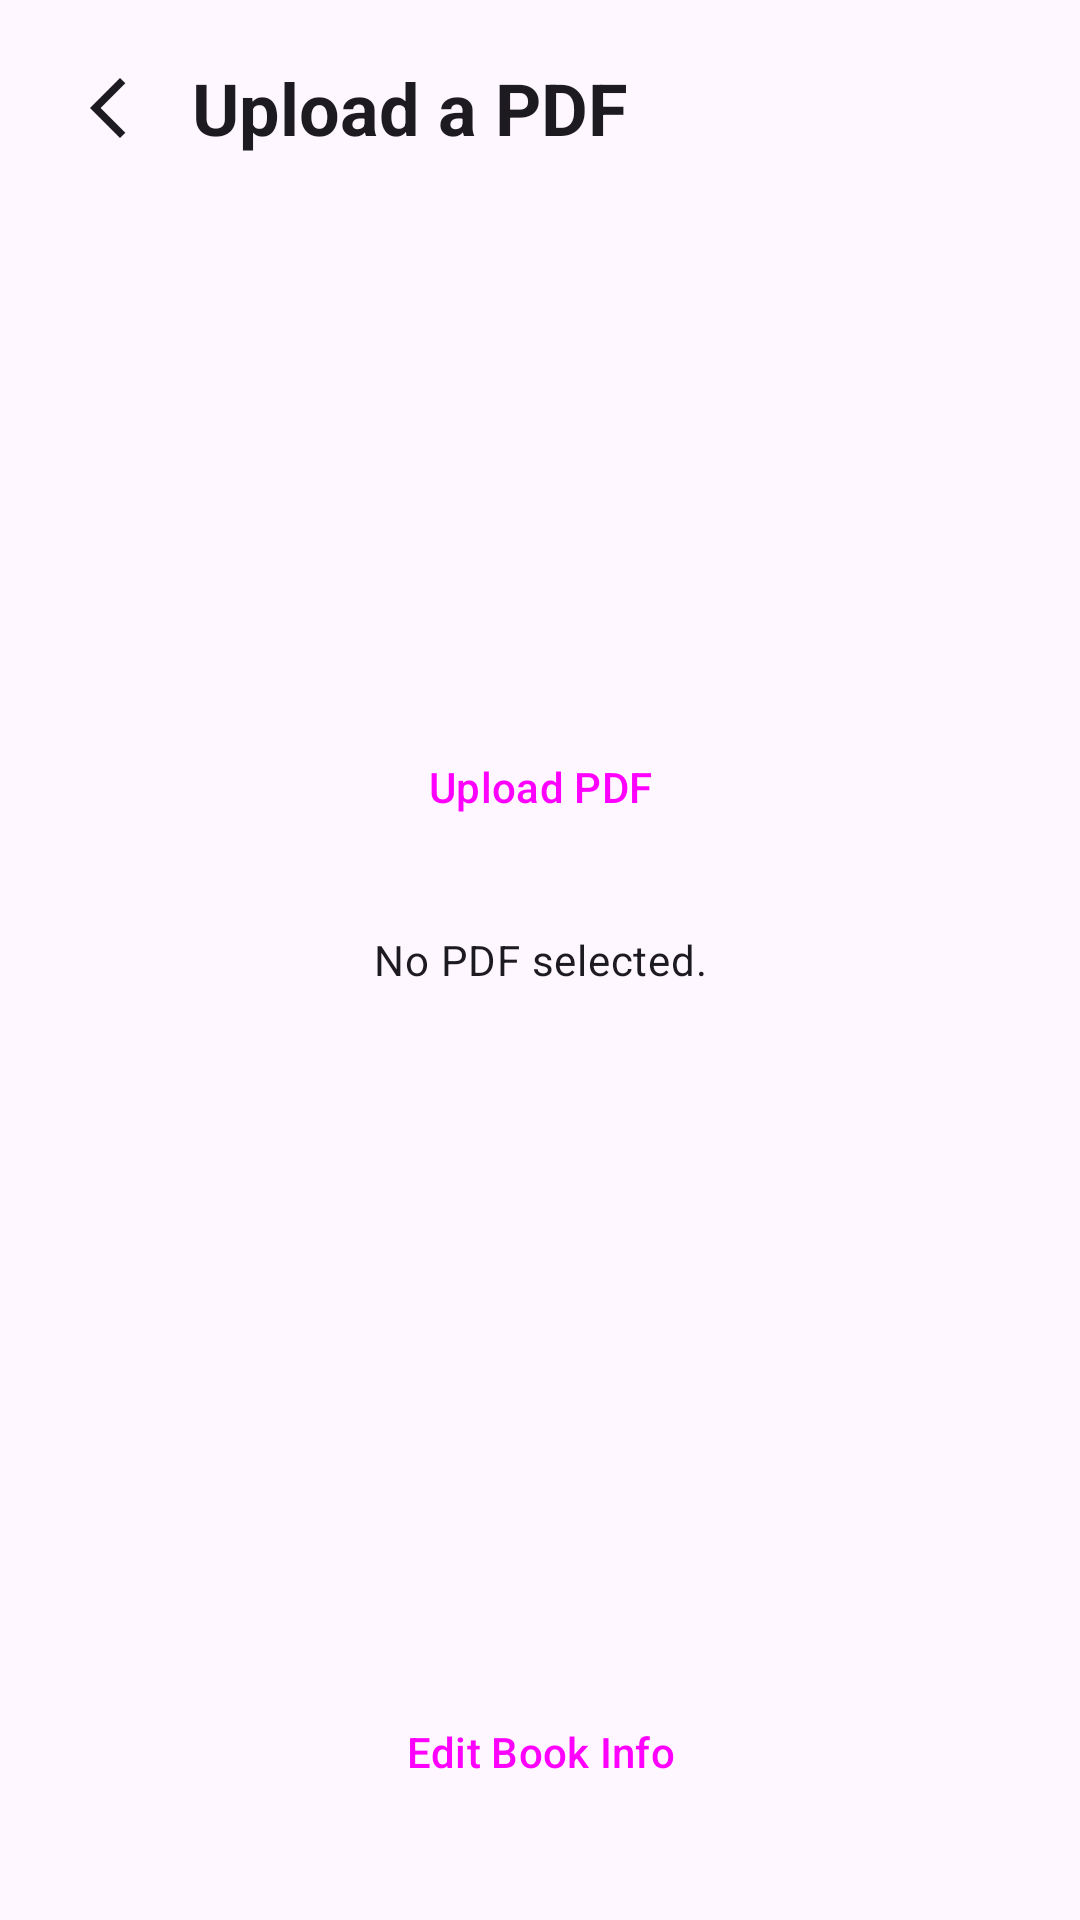

Named icons in this screenshot (1080w x 1920h) and their bounding boxes, {"left": x1, "top": y1, "right": x2, "bottom": y2}:
Back button: {"left": 90, "top": 78, "right": 125, "bottom": 138}
